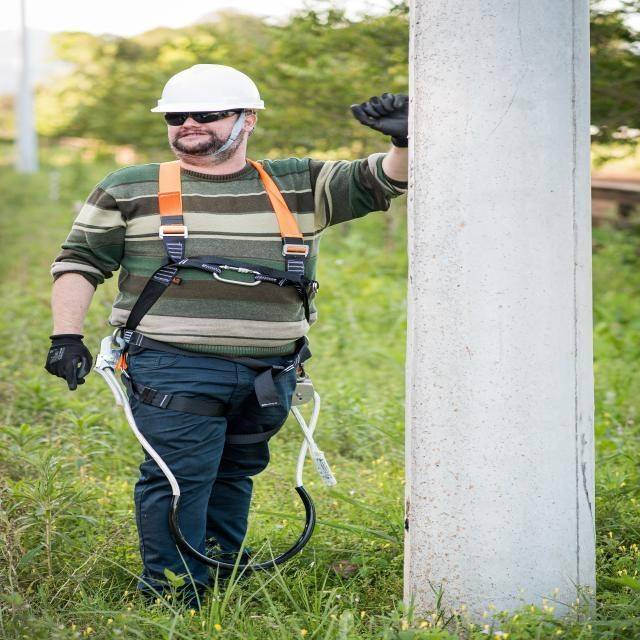Arnes_seguridad: (94, 156, 328, 428)
